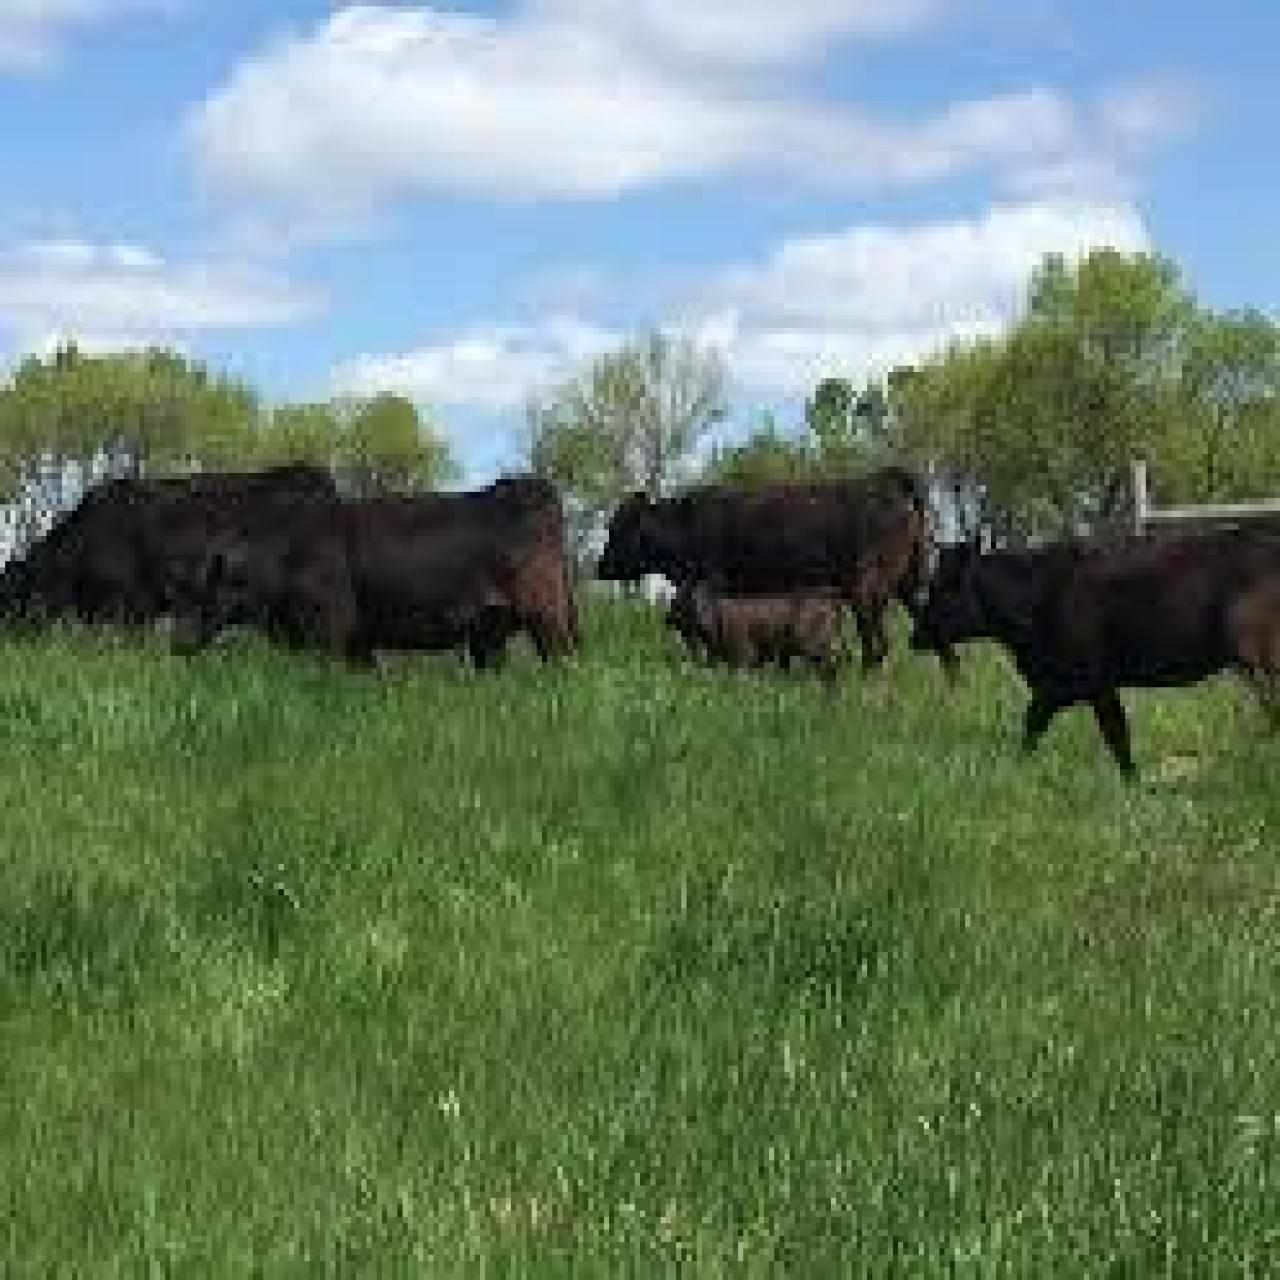cow: (913, 520, 1280, 785), (176, 492, 584, 668), (610, 483, 945, 690), (5, 474, 191, 662), (661, 584, 872, 678)
